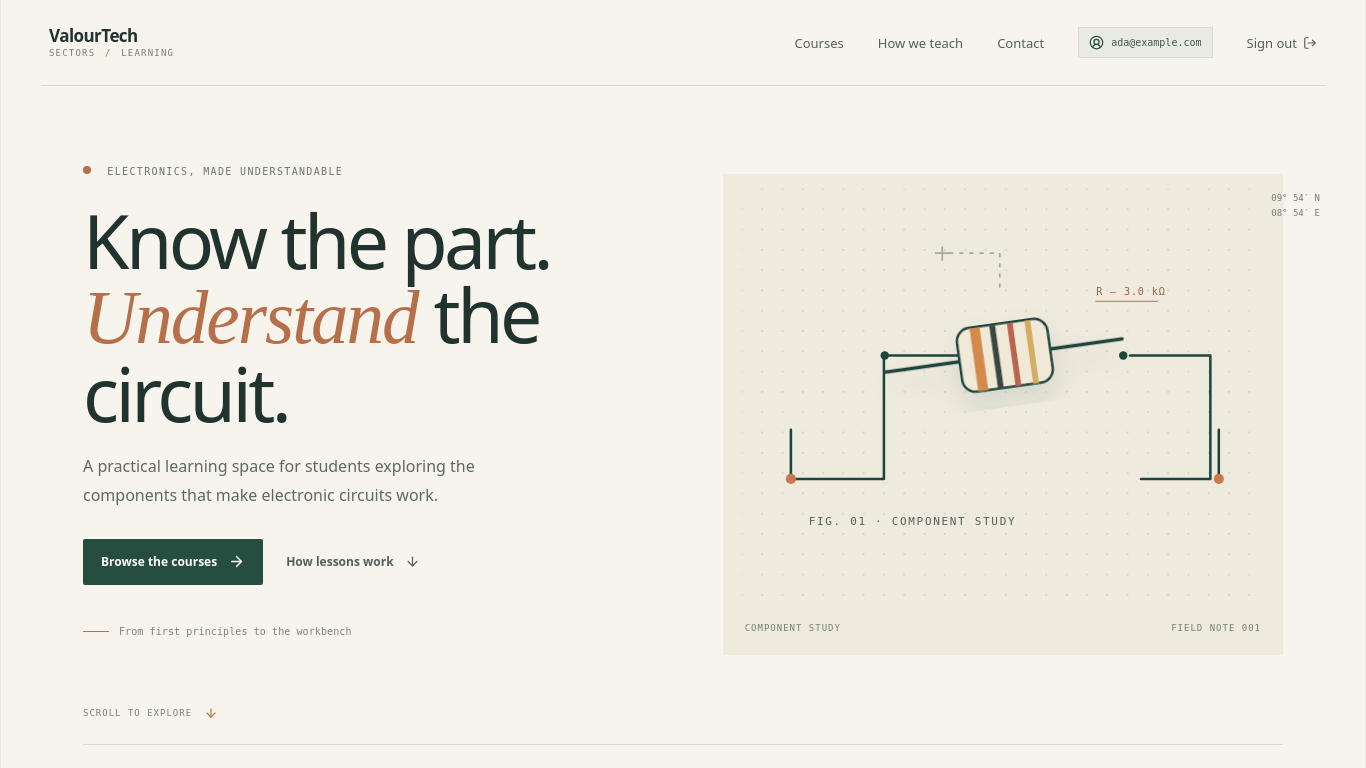
Scenario: header account controls › shows who is signed in and signs them out with the current token
This screenshot has width=1366, height=768.
Expected: the text "ada@example.com" is shown, x1=1111 y1=37 x2=1202 y2=48
Expected: the link "Sign in" is not shown
Click the button "Sign out" at [1282, 42], box x1=1246 y1=24 x2=1317 y2=62
(page scrolled)
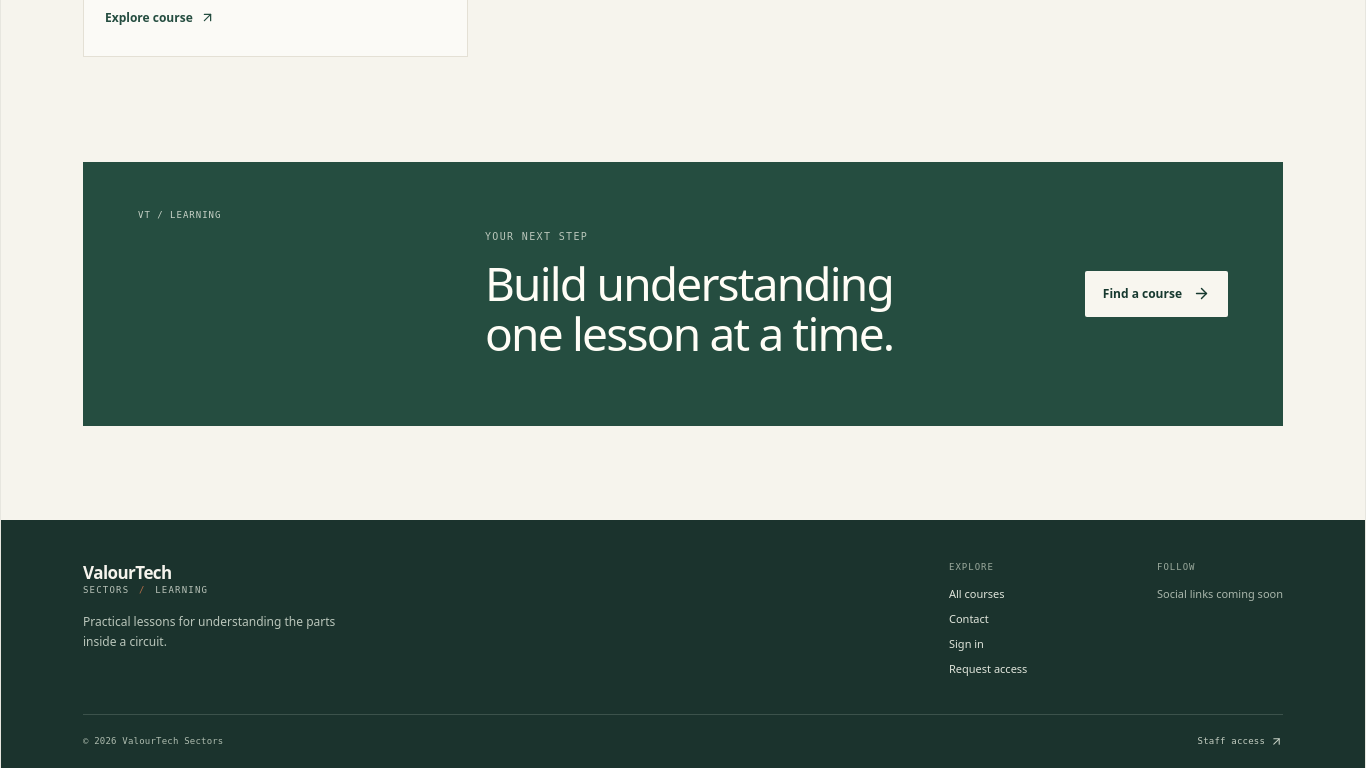
Expected: the link "Request access" is shown, x1=949 y1=661 x2=1027 y2=676
